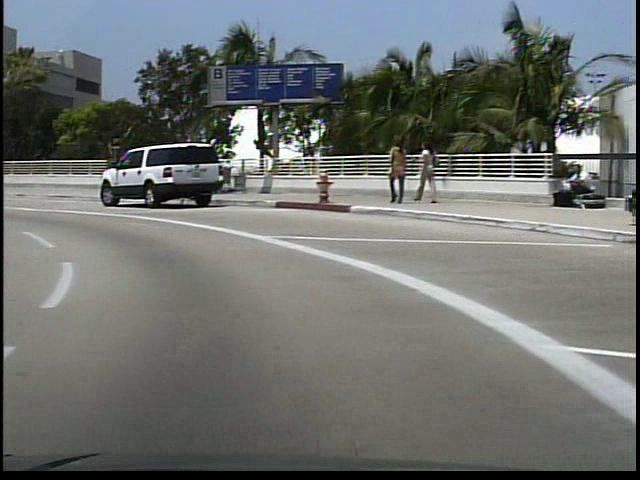person: (383, 135, 406, 211), (552, 162, 589, 208), (409, 140, 434, 207)
